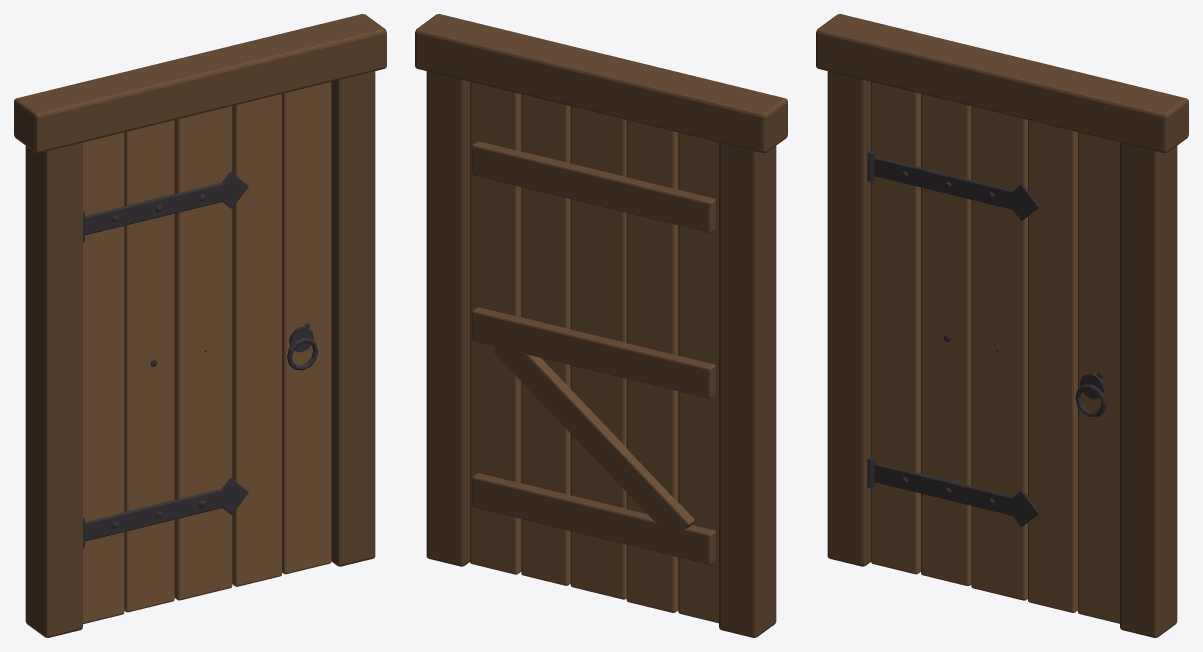
Rendered from SM_Door_Rustic_01.fbx.
3 views of the same model, side by side, from view 1: azimuth 30°, elevation 25°; view 2: azimuth 150°, elevation 25°; view 3: azimuth 330°, elevation 25° (orthographic).
Parts seen in each view (by area): view 1: SM_Door_Rustic_01_Frame, SM_Door_Rustic_01_Plank3, SM_Door_Rustic_01_Plank4, SM_Door_Rustic_01_Plank5, SM_Door_Rustic_01_Plank2, SM_Door_Rustic_01_JambR, SM_Door_Rustic_01_Lintel, SM_Door_Rustic_01_Plank1, SM_Door_Rustic_01_Strap_0.42, SM_Door_Rustic_01_Strap_1.8, SM_Door_Rustic_01_StrapTip_1.8, SM_Door_Rustic_01_StrapTip_0.42; view 2: SM_Door_Rustic_01_Frame, SM_Door_Rustic_01_JambR, SM_Door_Rustic_01_Lintel, SM_Door_Rustic_01_Plank5, SM_Door_Rustic_01_Plank3, SM_Door_Rustic_01_Plank2, SM_Door_Rustic_01_Plank4, SM_Door_Rustic_01_Plank1, SM_Door_Rustic_01_Ledge3, SM_Door_Rustic_01_Ledge2, SM_Door_Rustic_01_Ledge1, SM_Door_Rustic_01_Brace; view 3: SM_Door_Rustic_01_JambR, SM_Door_Rustic_01_Plank3, SM_Door_Rustic_01_Plank4, SM_Door_Rustic_01_Plank2, SM_Door_Rustic_01_Plank1, SM_Door_Rustic_01_Frame, SM_Door_Rustic_01_Lintel, SM_Door_Rustic_01_Plank5, SM_Door_Rustic_01_Strap_0.42, SM_Door_Rustic_01_Strap_1.8, SM_Door_Rustic_01_StrapTip_1.8, SM_Door_Rustic_01_StrapTip_0.42.
Boxes of the visible parts, x1,y1,x2,y2 form: SM_Door_Rustic_01_Frame: (25,88,82,637); SM_Door_Rustic_01_Plank3: (174,106,232,600); SM_Door_Rustic_01_Plank4: (232,94,281,586); SM_Door_Rustic_01_Plank5: (282,82,331,574); SM_Door_Rustic_01_Plank2: (124,120,174,612); SM_Door_Rustic_01_JambR: (321,17,375,566); SM_Door_Rustic_01_Lintel: (14,14,386,153); SM_Door_Rustic_01_Plank1: (83,132,124,624); SM_Door_Rustic_01_Strap_0.42: (85,489,222,541); SM_Door_Rustic_01_Strap_1.8: (85,182,222,235); SM_Door_Rustic_01_StrapTip_1.8: (216,171,248,208); SM_Door_Rustic_01_StrapTip_0.42: (219,478,248,514); SM_Door_Rustic_01_Frame: (719,88,776,637); SM_Door_Rustic_01_JambR: (426,17,480,566); SM_Door_Rustic_01_Lintel: (415,14,787,153); SM_Door_Rustic_01_Plank5: (470,81,521,574); SM_Door_Rustic_01_Plank3: (570,106,626,599); SM_Door_Rustic_01_Plank2: (626,120,678,612); SM_Door_Rustic_01_Plank4: (521,94,570,585); SM_Door_Rustic_01_Plank1: (678,132,718,623); SM_Door_Rustic_01_Ledge3: (472,141,715,232); SM_Door_Rustic_01_Ledge2: (472,307,715,398); SM_Door_Rustic_01_Ledge1: (472,473,715,564); SM_Door_Rustic_01_Brace: (493,336,694,529); SM_Door_Rustic_01_JambR: (1120,88,1177,637); SM_Door_Rustic_01_Plank3: (971,106,1027,600); SM_Door_Rustic_01_Plank4: (1028,120,1077,612); SM_Door_Rustic_01_Plank2: (921,94,971,585); SM_Door_Rustic_01_Plank1: (871,81,920,574); SM_Door_Rustic_01_Frame: (827,17,881,566); SM_Door_Rustic_01_Lintel: (816,14,1188,153); SM_Door_Rustic_01_Plank5: (1078,132,1119,623); SM_Door_Rustic_01_Strap_0.42: (874,463,1012,515); SM_Door_Rustic_01_Strap_1.8: (874,157,1013,209); SM_Door_Rustic_01_StrapTip_1.8: (1005,184,1039,220); SM_Door_Rustic_01_StrapTip_0.42: (1005,490,1039,526).
Size of the model in its own units: 1.66 by 2.38 by 0.1944.
